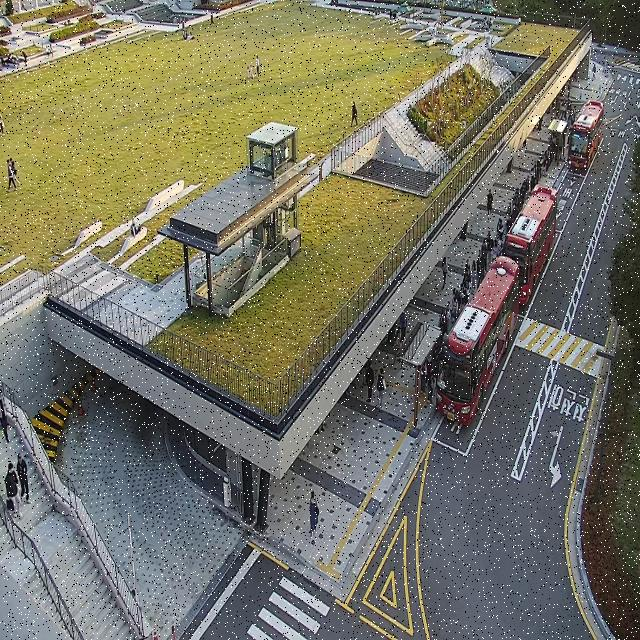queue: (414, 100, 578, 430)
